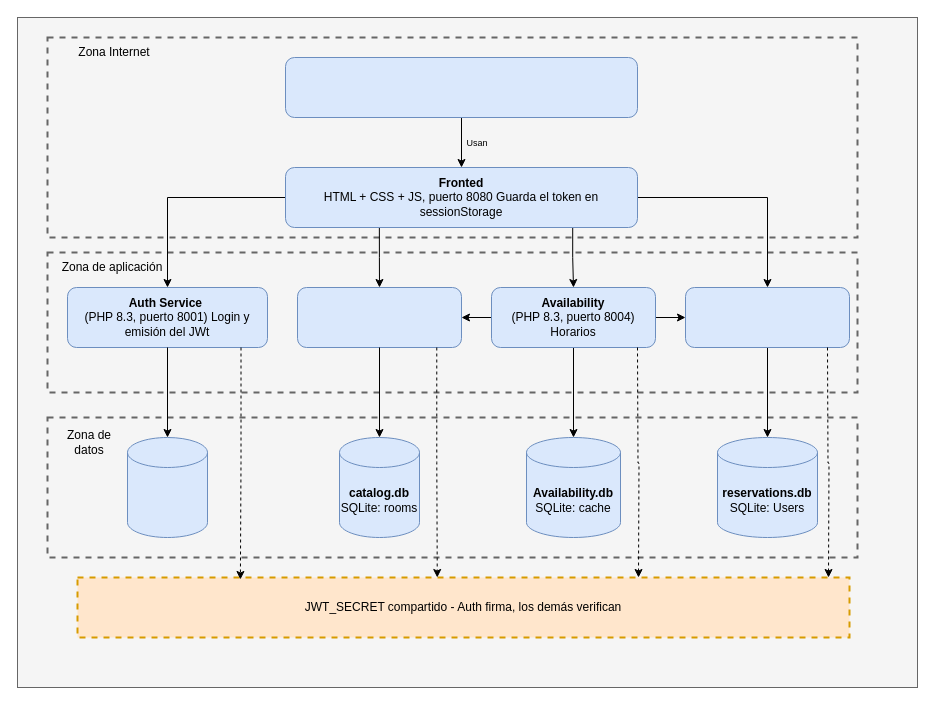
This 935x705 diagram has some shape labels left out. Here are the shapes that lost their labels. From the top down, the box of each, then its label:
(284, 56, 638, 118): Usuarios (Docentes, Estudiantes, Administrador)
(296, 286, 462, 348): Room Catalog (PHP 8.3, puerto 8003) Salones
(684, 286, 850, 348): Reservations (PHP 8.3, puerto 8005) Reservas
(126, 436, 208, 538): Auth.db SQLite: Users
